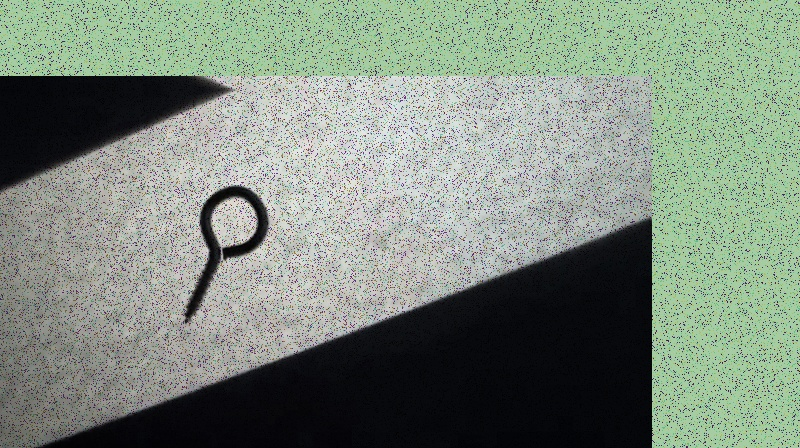O001: (177, 183, 272, 328)
